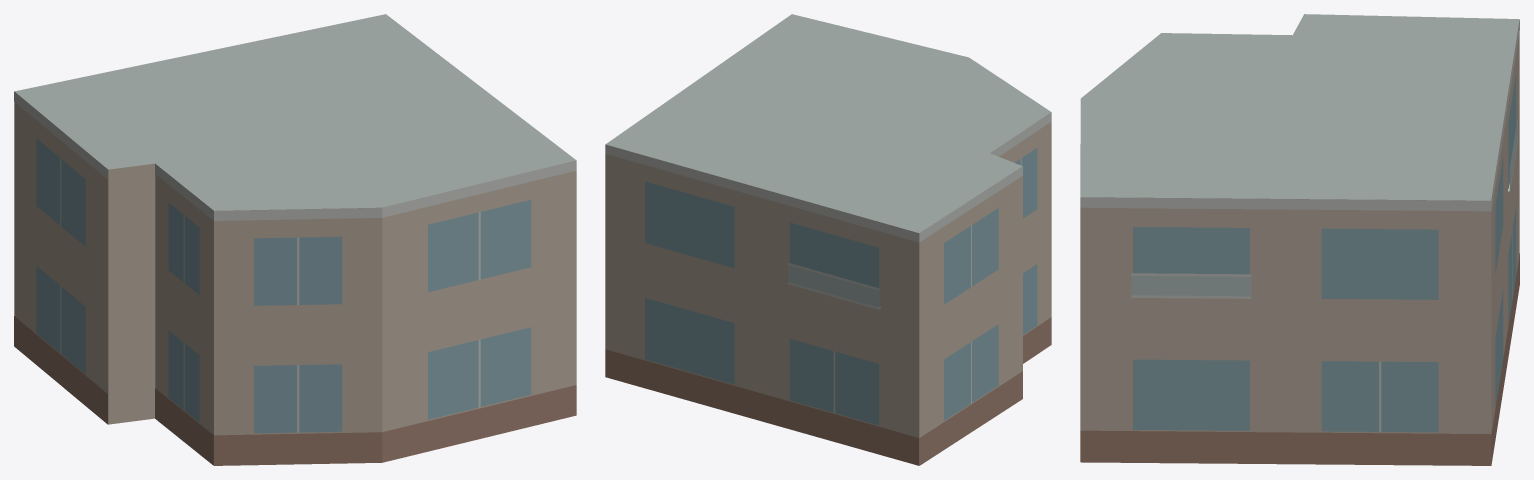
Rendered from survey-upis-32830112.glb.
3 renders of one model, left to right at view 1: azimuth 30°, elevation 25°; view 2: azimuth 150°, elevation 25°; view 3: azimuth 270°, elevation 25°, orthographic. The views are drawn at different scales.
Parts seen in each view (by area): view 1: survey-upis-32830112.tmp; view 2: survey-upis-32830112.tmp; view 3: survey-upis-32830112.tmp.
Part boxes in pixels (<box>): survey-upis-32830112.tmp: <box>14,14,576,465</box>; survey-upis-32830112.tmp: <box>605,14,1051,465</box>; survey-upis-32830112.tmp: <box>1080,14,1519,465</box>.
Size of the model in its own units: 9.22 by 6.1 by 9.17.
